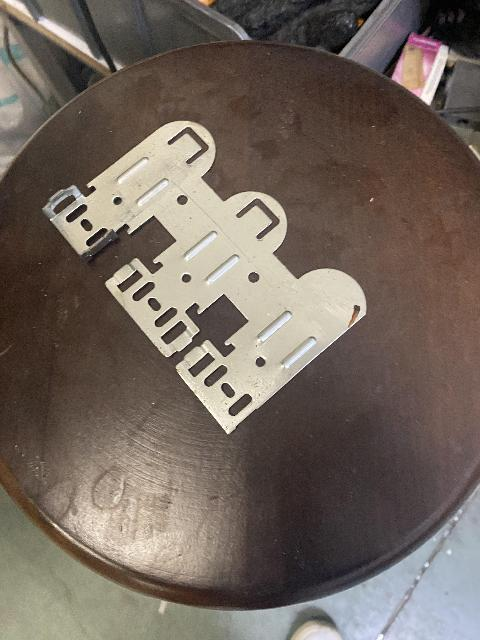Metal: (41, 113, 378, 449)
